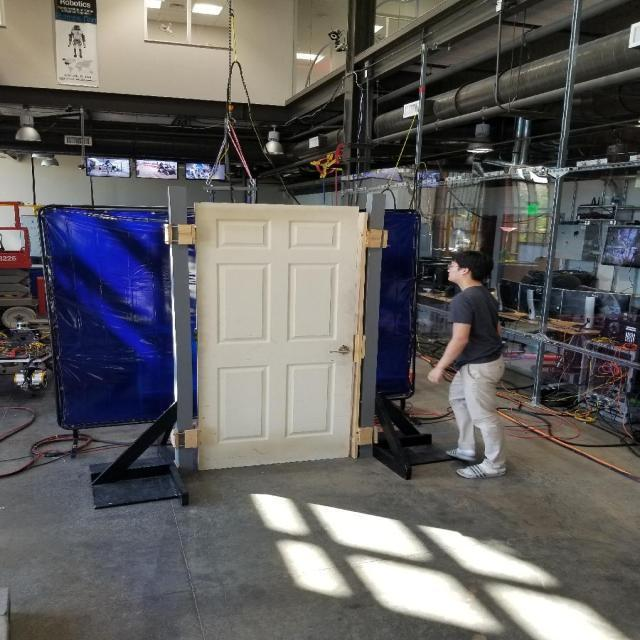door: (182, 199, 364, 476), (326, 340, 354, 353)
